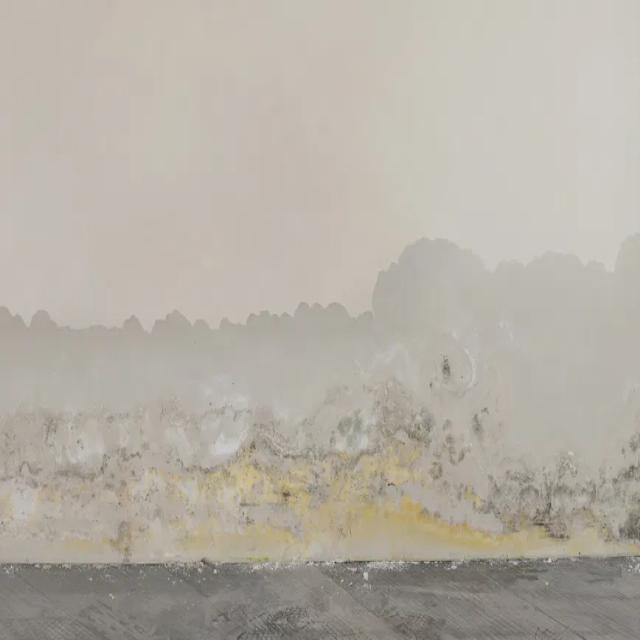stain_mould: (0, 373, 634, 563)
